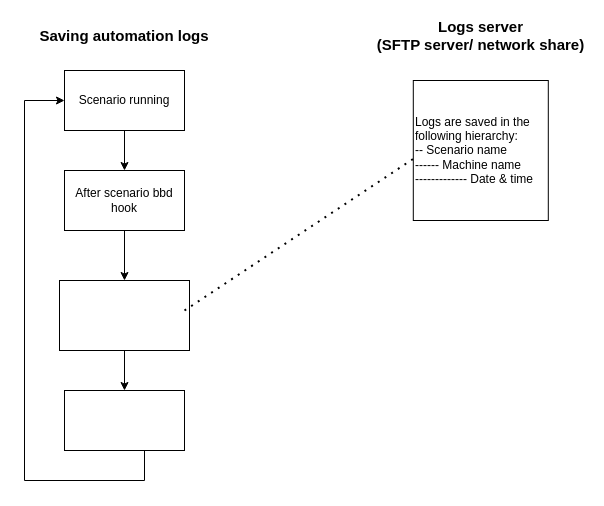
Image size: 604x506. Some labels were removed from this diagram. Here are the shapes that lost their labels. From the top down, the centre of each, then its label:
At point (124, 315): "Save logs in logs server & clean old logs from server".
At point (124, 420): "Scenario clean up".
